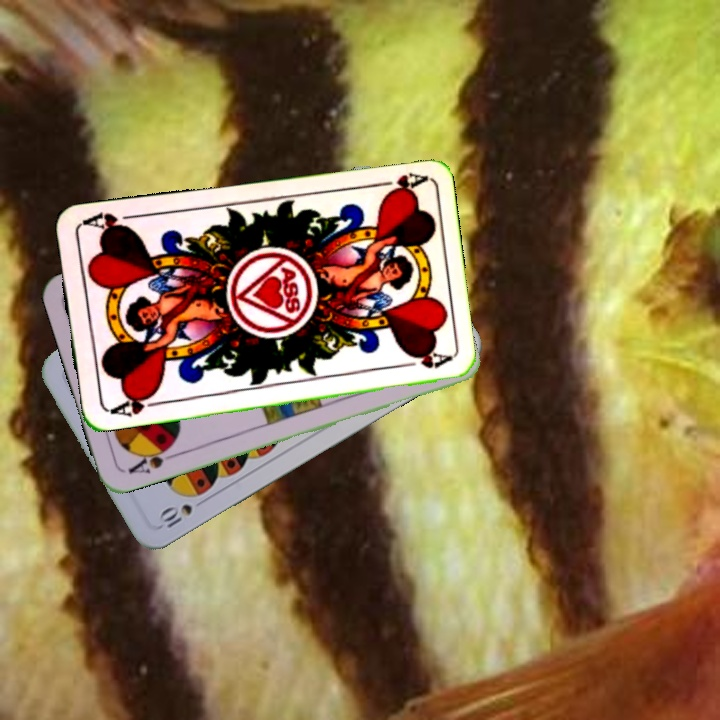HA: (104, 388, 163, 419), (368, 168, 427, 199)
S10: (154, 500, 195, 531)
SA: (124, 440, 180, 477)
